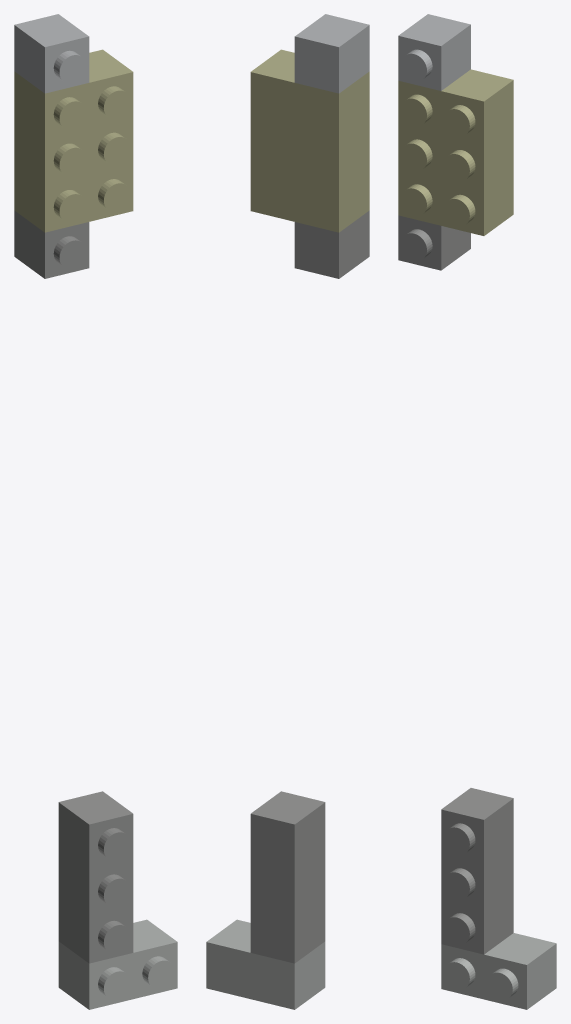
File: current.glb
3 views of the same model, side by side, from view 1: azimuth 30°, elevation 25°; view 2: azimuth 150°, elevation 25°; view 3: azimuth 330°, elevation 25° (orthographic). The views are drawn at different scales.
Parts seen in each view (by area): view 1: world; view 2: world; view 3: world.
Part boxes in pixels (x1,y1,x2,y2): world: (14,14,177,1009); world: (206,14,369,1009); world: (398,14,556,1009).
Size of the model in its own units: 24 by 168 by 11.4.
